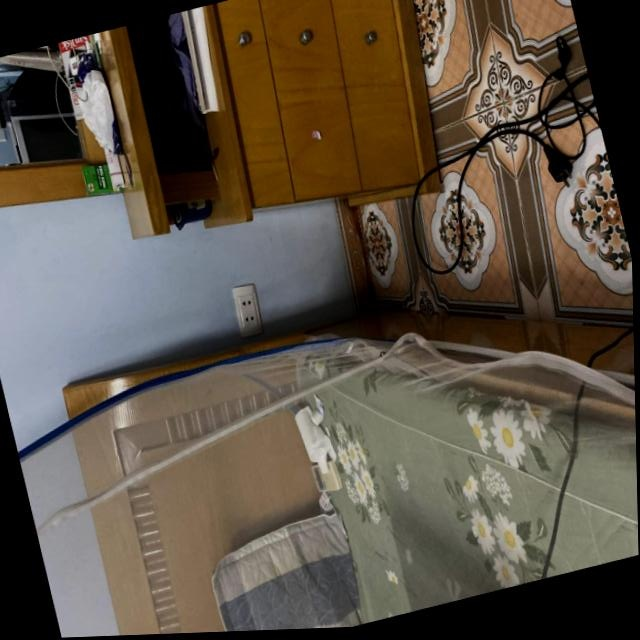outlet: (229, 282, 265, 340)
